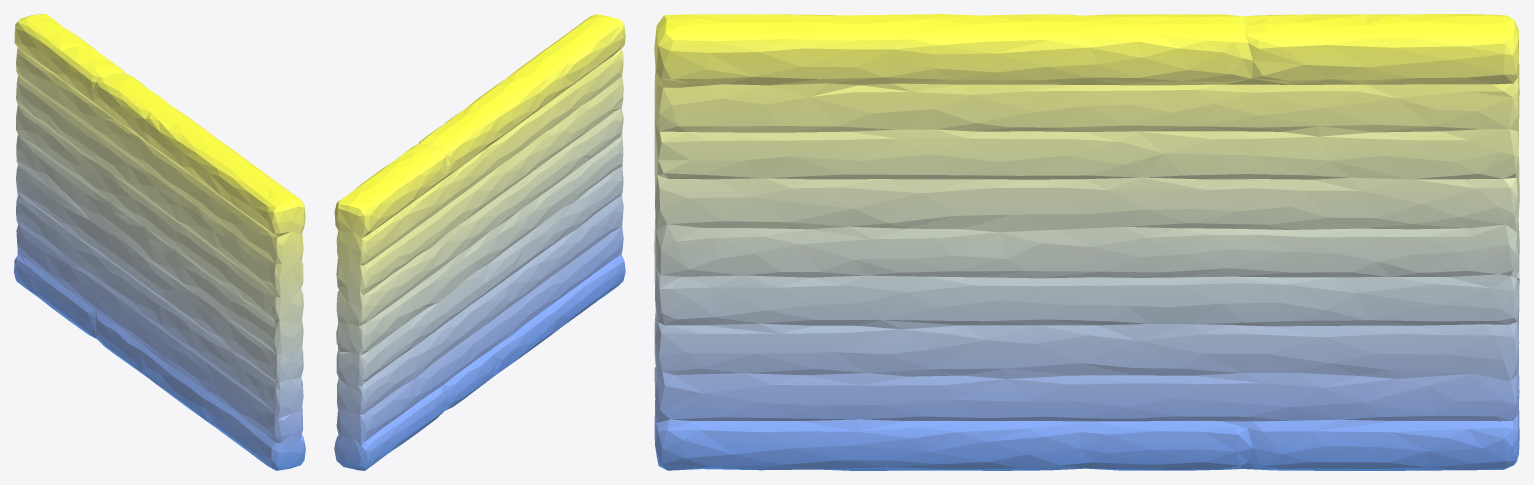
Rendered from 147_cyb_laser_gradient_fish_scales_2824_2026_10_03_87c49a.glb.
3 renders of one model, left to right at view 1: azimuth 30°, elevation 25°; view 2: azimuth 150°, elevation 25°; view 3: azimuth 270°, elevation 25°, orthographic. The views are drawn at different scales.
Visible parts, largest first — view 1: geometry_0; view 2: geometry_0; view 3: geometry_0.
Part boxes in pixels (x1,y1,x2,y2): geometry_0: [14, 14, 305, 470]; geometry_0: [334, 14, 625, 470]; geometry_0: [654, 14, 1519, 470].
Size of the model in its own units: 0.0803 by 0.5653 by 1.
